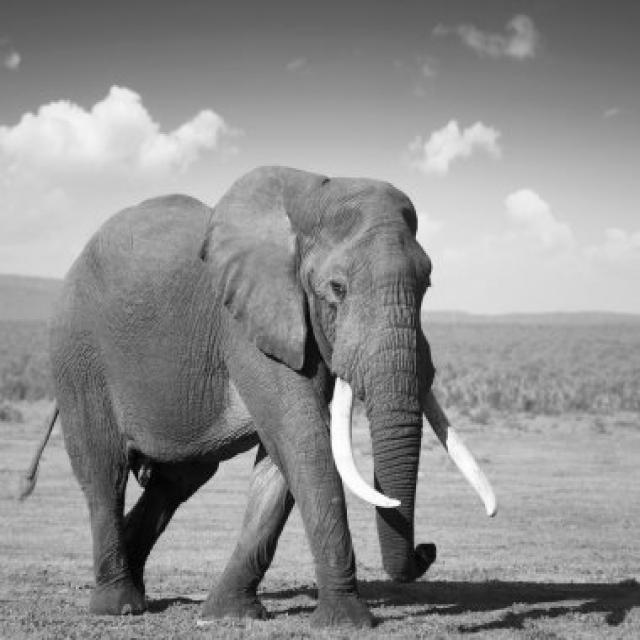Animal: (49, 167, 496, 626)
